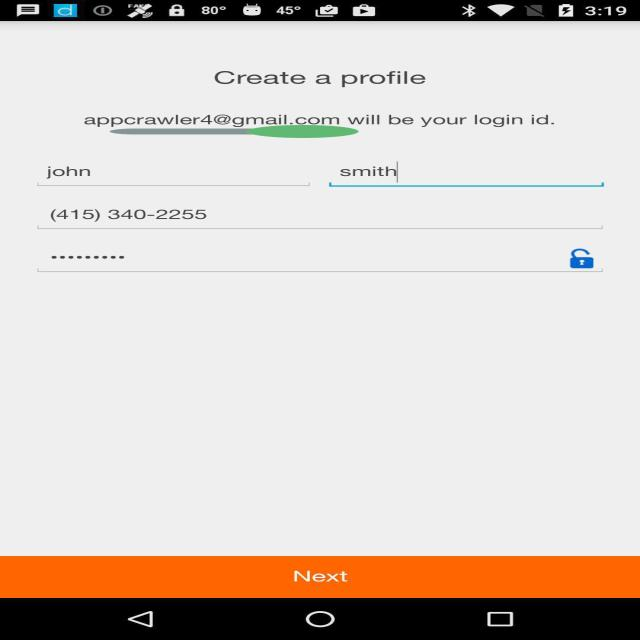social proof: (110, 117, 358, 146)
